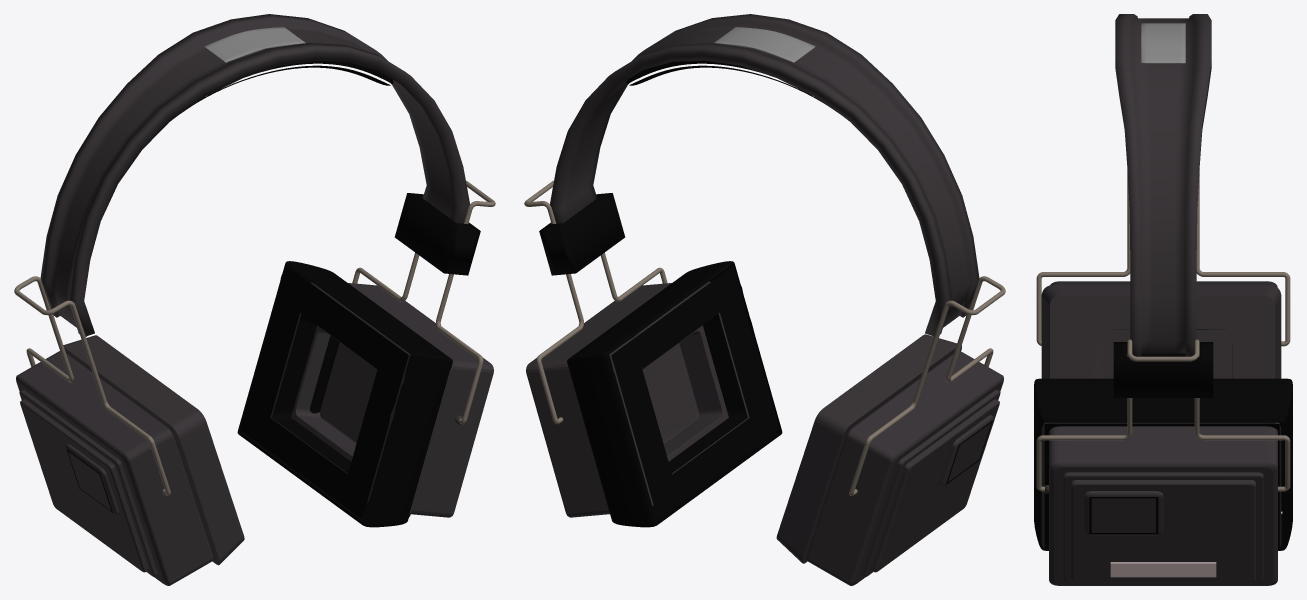
The model's file is headphone.gltf.
3 renders of one model, left to right at view 1: azimuth 30°, elevation 25°; view 2: azimuth 150°, elevation 25°; view 3: azimuth 270°, elevation 25°, orthographic.
Visible parts, largest first — view 1: Cube, Cube.001, Circle, Cube.006, Cylinder.001, Cube.003, Cube.004, Circle.001; view 2: Cube, Cube.001, Circle, Cube.006, Cylinder.001, Cube.003, Cube.004, Circle.001; view 3: Cube, Circle, Cube.006, Cube.001, Cylinder.001, Cube.003, Cube.004, Cube.005.
Part boxes in pixels (x1,y1,x2,y2): Cube: [16, 283, 493, 585]; Cube.001: [237, 261, 452, 527]; Circle: [40, 14, 469, 336]; Cube.006: [63, 282, 451, 565]; Cylinder.001: [14, 180, 495, 495]; Cube.003: [394, 193, 480, 275]; Cube.004: [204, 27, 305, 62]; Circle.001: [170, 60, 393, 121]; Cube: [526, 283, 1003, 585]; Cube.001: [567, 261, 782, 527]; Circle: [550, 14, 979, 336]; Cube.006: [609, 281, 961, 563]; Cylinder.001: [524, 180, 1005, 495]; Cube.003: [539, 193, 625, 275]; Cube.004: [714, 27, 815, 62]; Circle.001: [626, 60, 849, 121]; Cube: [1049, 281, 1277, 585]; Circle: [1115, 14, 1211, 356]; Cube.006: [1041, 285, 1281, 550]; Cube.001: [1034, 378, 1292, 550]; Cylinder.001: [1036, 171, 1290, 491]; Cube.003: [1113, 342, 1213, 397]; Cube.004: [1141, 23, 1185, 63]; Cube.005: [1110, 562, 1216, 577].
Size of the model in its own units: 1.23 by 1.24 by 0.6044.
